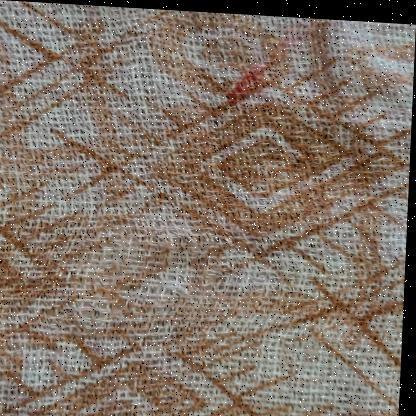spot: (170, 29, 410, 137)
